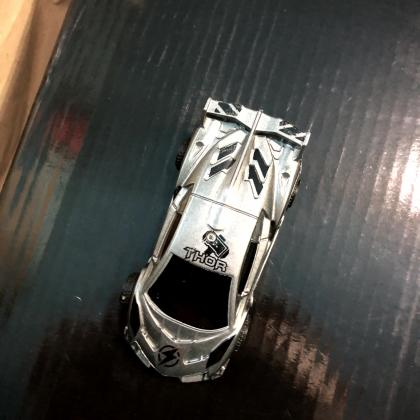Car: (123, 100, 309, 385)
